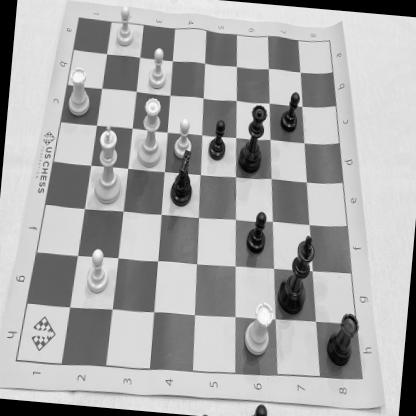king: (276, 231, 316, 317), (91, 122, 127, 207)
knight: (167, 148, 199, 209)
pawn: (84, 244, 112, 296), (244, 209, 270, 254), (145, 46, 170, 92), (277, 89, 302, 134), (114, 4, 138, 49), (172, 117, 195, 160), (206, 119, 228, 162)
queen: (135, 95, 169, 170), (236, 100, 270, 174)
rook: (326, 309, 360, 369), (240, 298, 274, 358), (63, 64, 94, 119)
